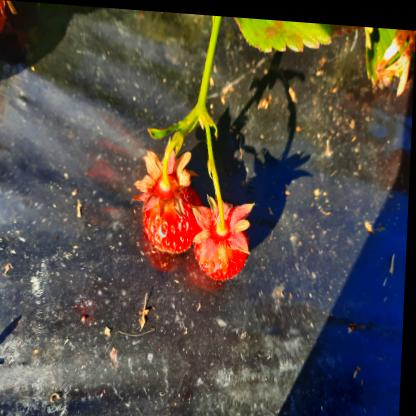ripe: (144, 175, 206, 252), (198, 209, 247, 275)
